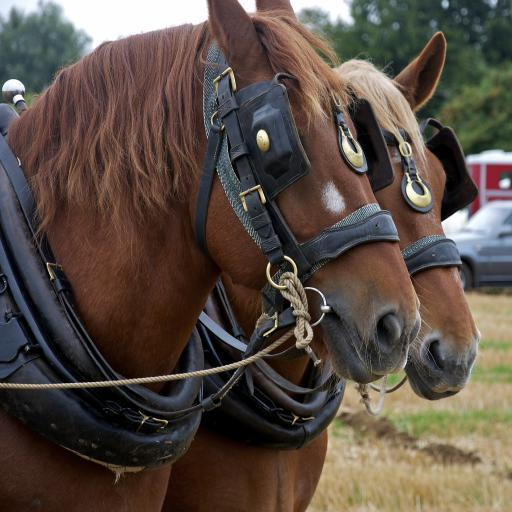Horse: (0, 0, 438, 512), (163, 0, 491, 512)
